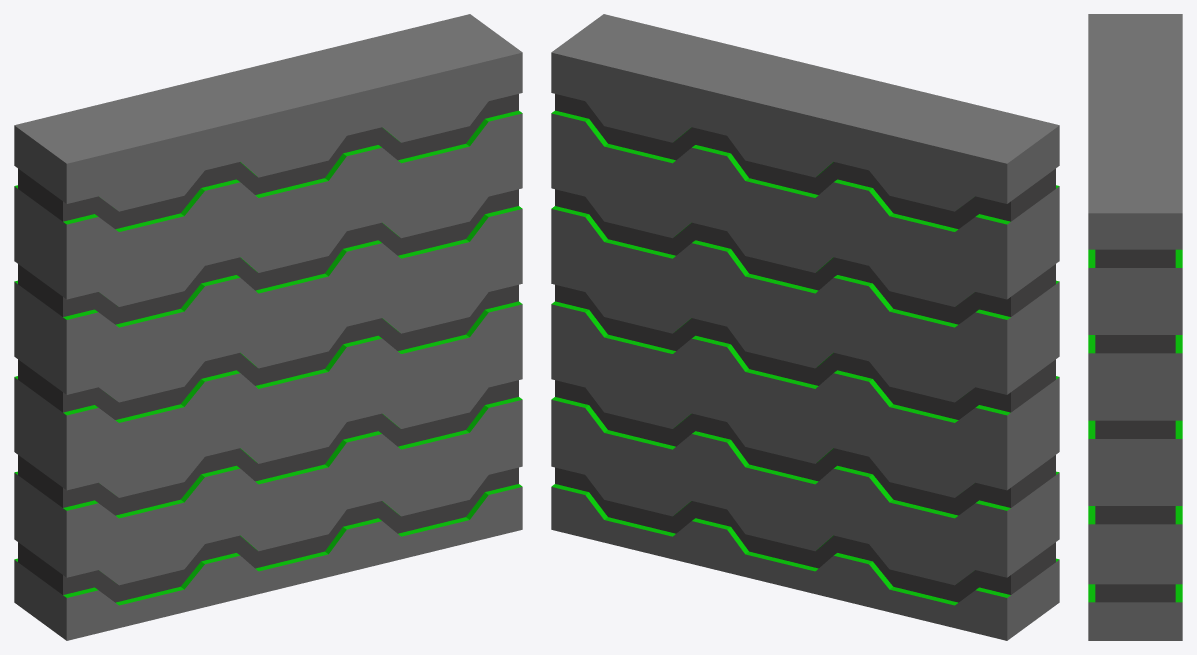
The model's file is Robot_Wall.fbx.
3 renders of one model, left to right at view 1: azimuth 30°, elevation 25°; view 2: azimuth 150°, elevation 25°; view 3: azimuth 270°, elevation 25°, orthographic. The views are drawn at different scales.
Parts seen in each view (by area): view 1: Robot_Wall; view 2: Robot_Wall; view 3: Robot_Wall.
Part boxes in pixels (left/top/right/bottom): Robot_Wall: left=14, top=14, right=522, bottom=640; Robot_Wall: left=551, top=14, right=1059, bottom=640; Robot_Wall: left=1088, top=14, right=1182, bottom=640.
Bounding box in the file's own units: 5 × 1 × 5.
